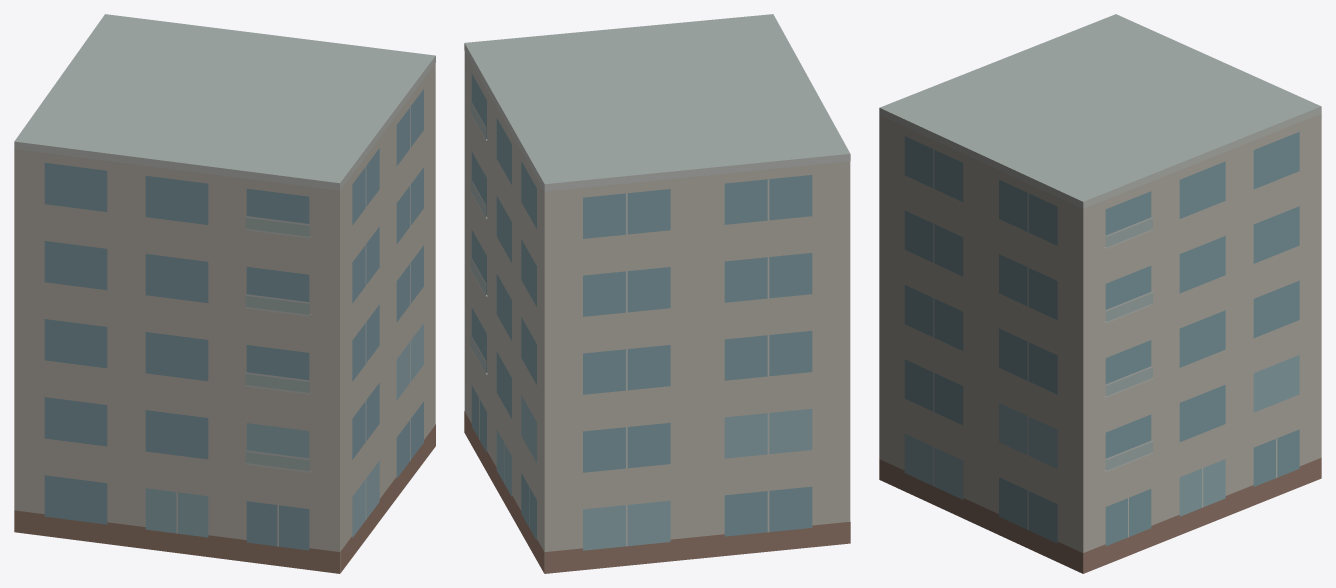
Rendered from survey-upis-32710559.glb.
3 views of the same model, side by side, from view 1: azimuth 30°, elevation 25°; view 2: azimuth 150°, elevation 25°; view 3: azimuth 270°, elevation 25° (orthographic). The views are drawn at different scales.
Parts seen in each view (by area): view 1: survey-upis-32710559.tmp; view 2: survey-upis-32710559.tmp; view 3: survey-upis-32710559.tmp.
Part boxes in pixels (x1,y1,x2,y2): survey-upis-32710559.tmp: (14,14,435,573); survey-upis-32710559.tmp: (464,14,850,573); survey-upis-32710559.tmp: (879,14,1321,573).
Bounding box in the file's own units: 13.87 × 12.8 × 13.8.
